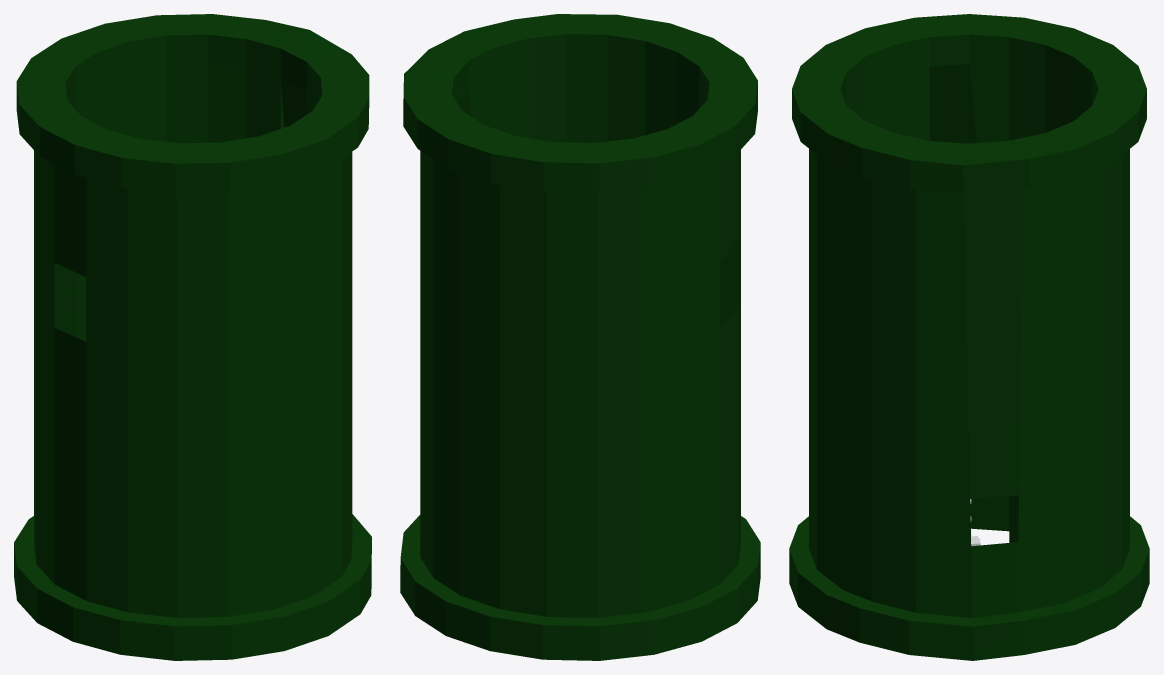
File: PipeLevel.fbx
3 renders of one model, left to right at view 1: azimuth 30°, elevation 25°; view 2: azimuth 150°, elevation 25°; view 3: azimuth 270°, elevation 25°, orthographic.
Visible parts, largest first — view 1: pCylinder3; view 2: pCylinder3; view 3: pCylinder3.
Boxes of the visible parts, left/top/right/bottom form: pCylinder3: left=14, top=14, right=371, bottom=660; pCylinder3: left=400, top=14, right=760, bottom=660; pCylinder3: left=789, top=14, right=1149, bottom=660.
Bounding box in the file's own units: 42.92 × 64.89 × 42.72.
